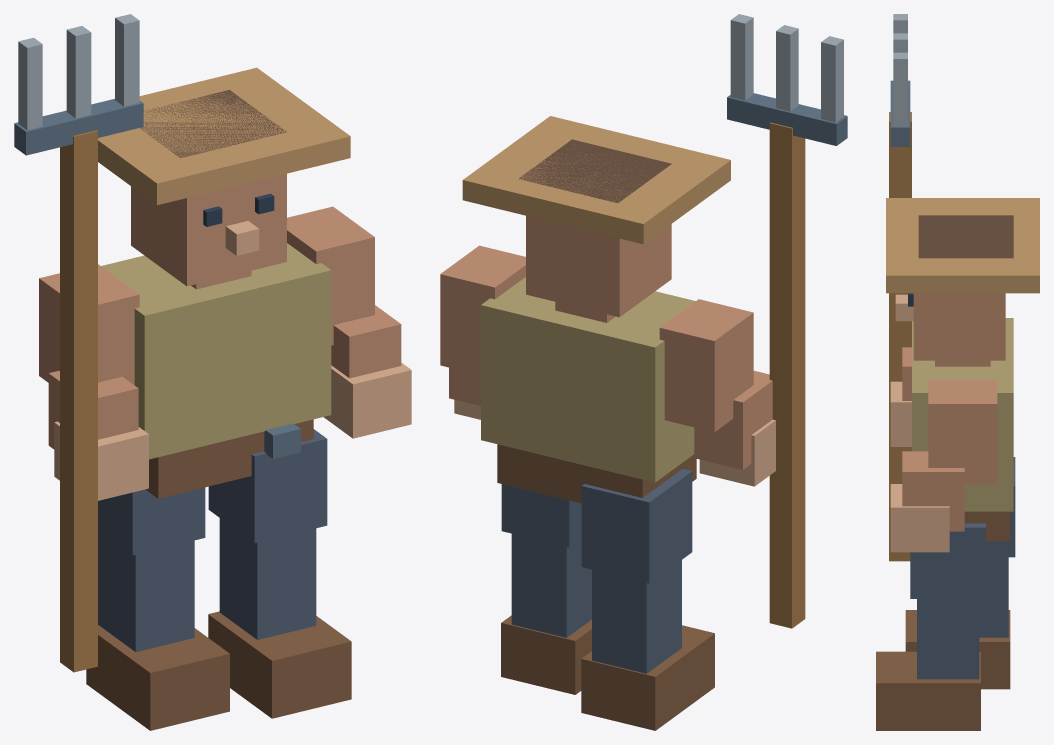
The model's file is arena-q-pitchfork.glb.
The picture shows the model from 3 angles, left to right: view 1: azimuth 30°, elevation 25°; view 2: azimuth 150°, elevation 25°; view 3: azimuth 270°, elevation 25°; orthographic projection. The views are drawn at different scales.
Visible parts, largest first — view 1: Cloth, Legs, Weapon, Hat, Boots, Arms, Head, Hands, Belt, Face; view 2: Cloth, Legs, Weapon, Arms, Hat, Head, Boots, Belt, Hands; view 3: Legs, Head, Hat, Arms, Boots, Cloth, Weapon, Hands, Belt, Face.
Boxes of the visible parts, x1=… form: Cloth: x1=101, y1=243, x2=331, y2=459; Legs: x1=98, y1=429, x2=327, y2=651; Weapon: x1=14, y1=14, x2=143, y2=672; Hat: x1=98, y1=67, x2=350, y2=205; Boots: x1=86, y1=611, x2=351, y2=730; Arms: x1=39, y1=206, x2=401, y2=449; Head: x1=131, y1=90, x2=286, y2=289; Hands: x1=54, y1=362, x2=411, y2=500; Belt: x1=145, y1=419, x2=313, y2=498; Face: x1=203, y1=193, x2=274, y2=255; Cloth: x1=481, y1=277, x2=695, y2=482; Legs: x1=501, y1=469, x2=692, y2=673; Weapon: x1=727, y1=14, x2=847, y2=628; Arms: x1=440, y1=245, x2=772, y2=469; Hat: x1=462, y1=116, x2=730, y2=244; Head: x1=519, y1=139, x2=671, y2=322; Boots: x1=501, y1=615, x2=714, y2=730; Belt: x1=497, y1=444, x2=696, y2=503; Hands: x1=454, y1=399, x2=775, y2=486; Legs: x1=910, y1=457, x2=1015, y2=679; Head: x1=913, y1=215, x2=1013, y2=366; Hat: x1=886, y1=198, x2=1039, y2=293; Arms: x1=902, y1=347, x2=997, y2=531; Boots: x1=876, y1=610, x2=1010, y2=730; Cloth: x1=912, y1=318, x2=1013, y2=511; Weapon: x1=889, y1=14, x2=911, y2=561; Hands: x1=890, y1=381, x2=949, y2=552; Belt: x1=964, y1=511, x2=1010, y2=541; Face: x1=895, y1=293, x2=913, y2=321.
Bounding box in the file's own units: 0.8685 × 1.55 × 0.3894.
